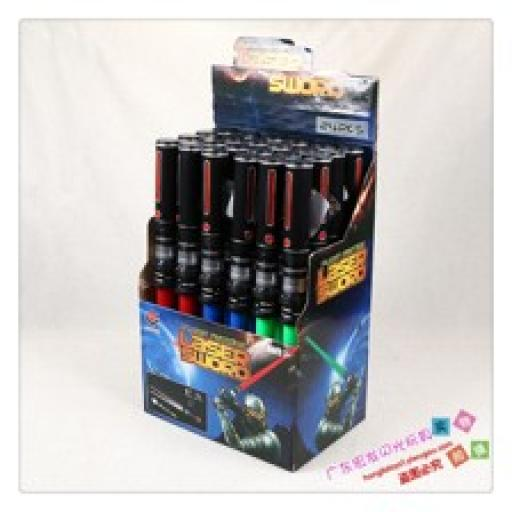lightsaber: (285, 160, 314, 344), (258, 162, 282, 344), (303, 334, 366, 393), (203, 152, 224, 320), (232, 156, 252, 332)
sith saber: (216, 349, 292, 409), (178, 146, 200, 314), (156, 142, 176, 308)
